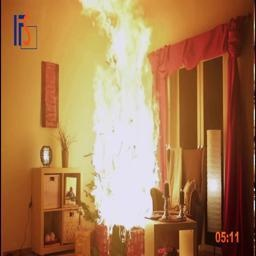fire: (67, 3, 167, 236)
